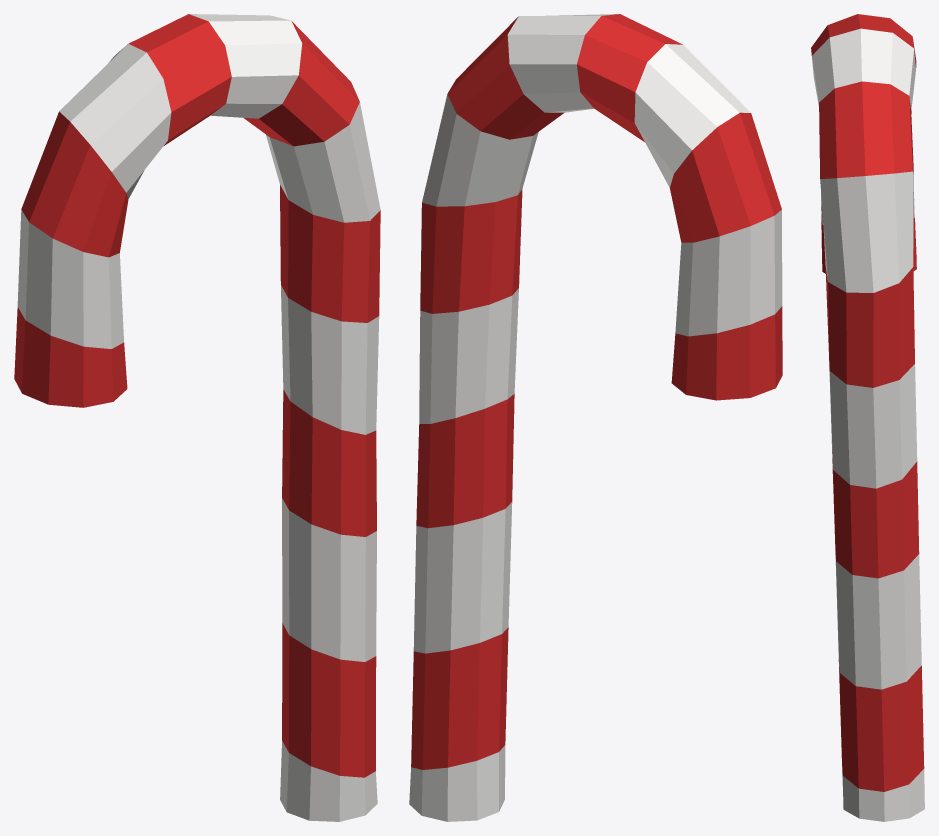
The model's file is Isl_16_Candy_3.fbx.
The picture shows the model from 3 angles, left to right: view 1: azimuth 30°, elevation 25°; view 2: azimuth 150°, elevation 25°; view 3: azimuth 270°, elevation 25°; orthographic projection. The views are drawn at different scales.
Parts seen in each view (by area): view 1: Isl_16_Candy_3; view 2: Isl_16_Candy_3; view 3: Isl_16_Candy_3.
Part boxes in pixels (x1,y1,x2,y2): Isl_16_Candy_3: (14,14,380,821); Isl_16_Candy_3: (409,14,782,821); Isl_16_Candy_3: (811,14,924,821).
Size of the model in its own units: 79.2 by 24.99 by 174.
Materials: 1 (1 with a texture image).
